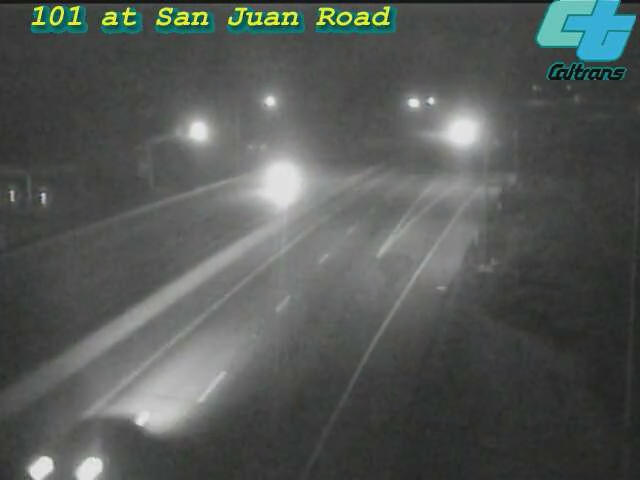vehicle: (42, 386, 152, 480), (243, 141, 323, 221), (436, 105, 486, 155)
